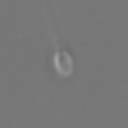normal: (43, 1, 69, 49)
